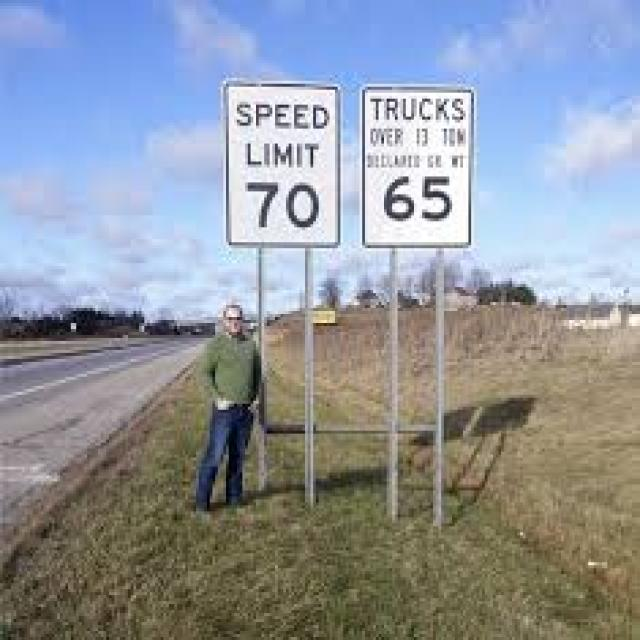speedLimit70: (220, 78, 476, 251)
